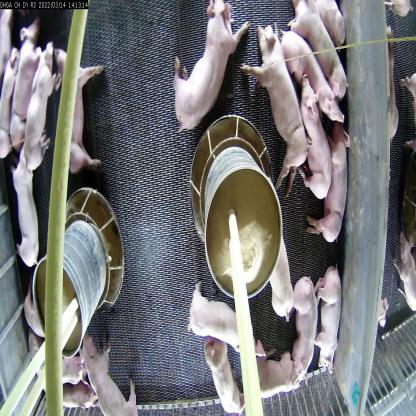Pig: (241, 19, 311, 198), (170, 0, 251, 141), (277, 13, 350, 130), (51, 41, 110, 178), (184, 273, 268, 365), (20, 29, 65, 176), (75, 324, 144, 416), (305, 118, 354, 246), (286, 0, 345, 104), (295, 64, 334, 204), (8, 14, 46, 152), (9, 144, 47, 269), (311, 258, 344, 382), (203, 330, 249, 413), (250, 335, 306, 402), (289, 267, 317, 390), (268, 224, 296, 324), (392, 226, 416, 317)
